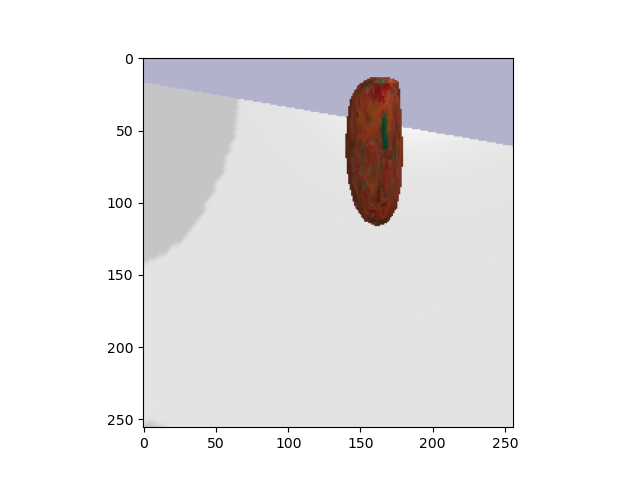v249b387_106: (337, 72, 418, 233)
